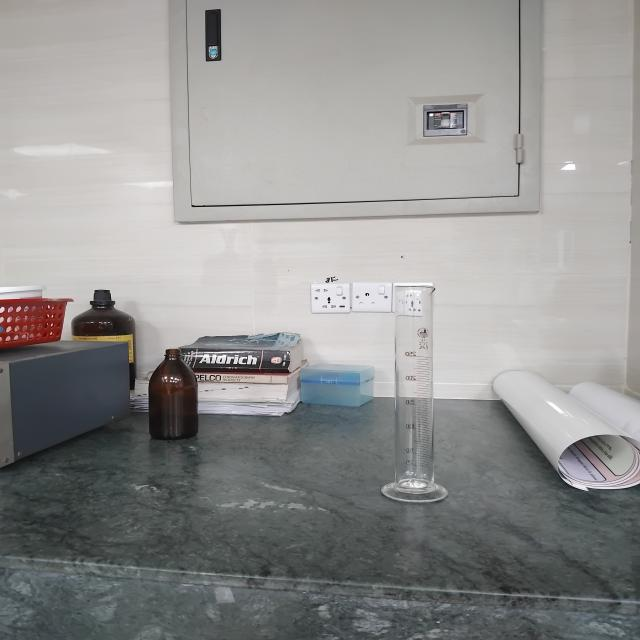Measuring_Cylinder: (348, 250, 496, 531)
